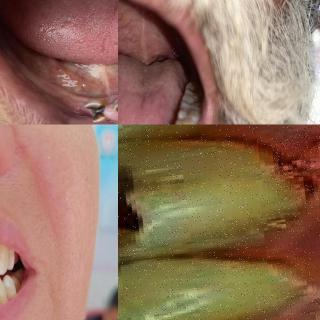Gum Swelling: (204, 124, 320, 158)
cavities: (118, 160, 188, 252)
